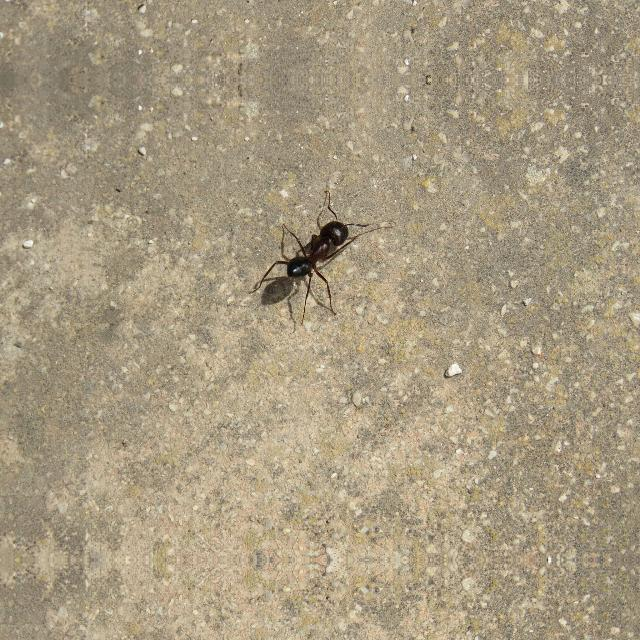Camponotus: (250, 208, 368, 308)
